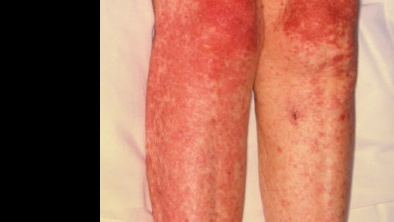SJS-TEN: (135, 0, 265, 222), (255, 0, 361, 222)
